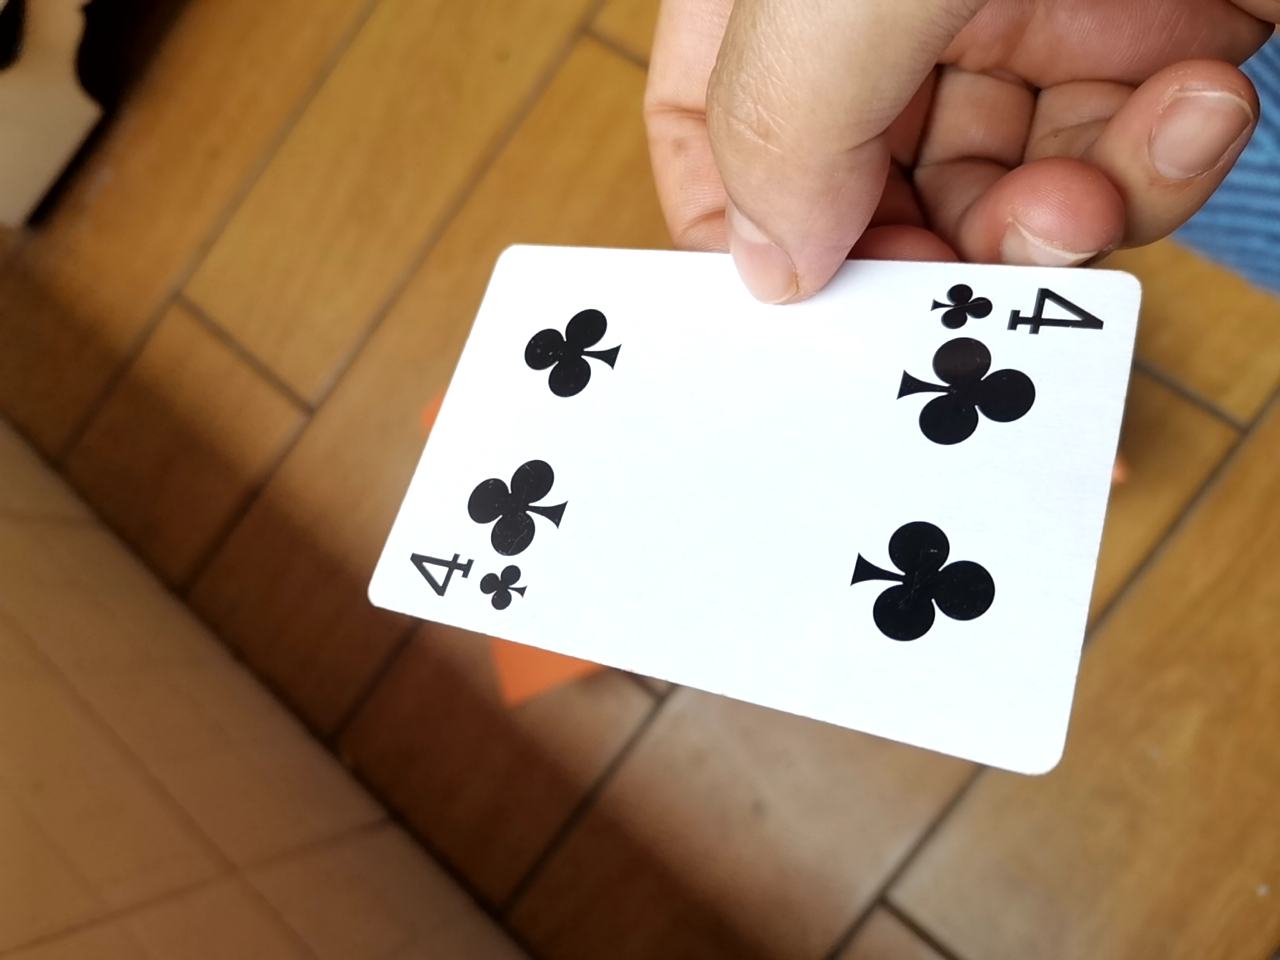mh 4: (341, 238, 1152, 772)
